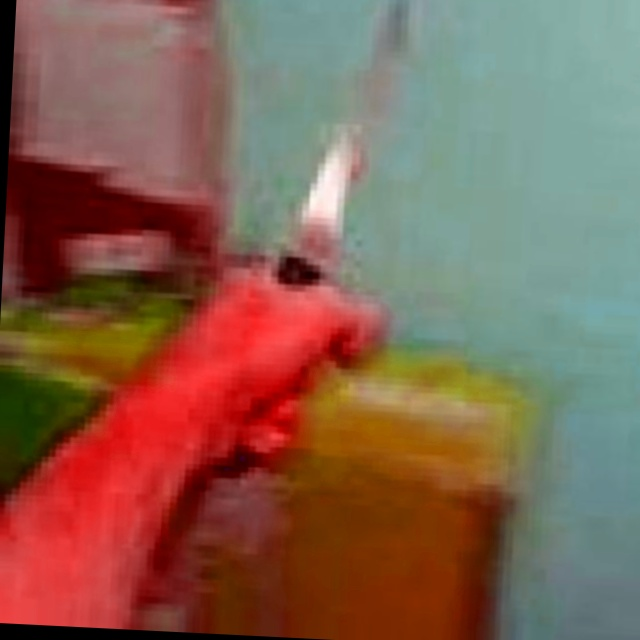Sharp-Object: (209, 0, 406, 493)
